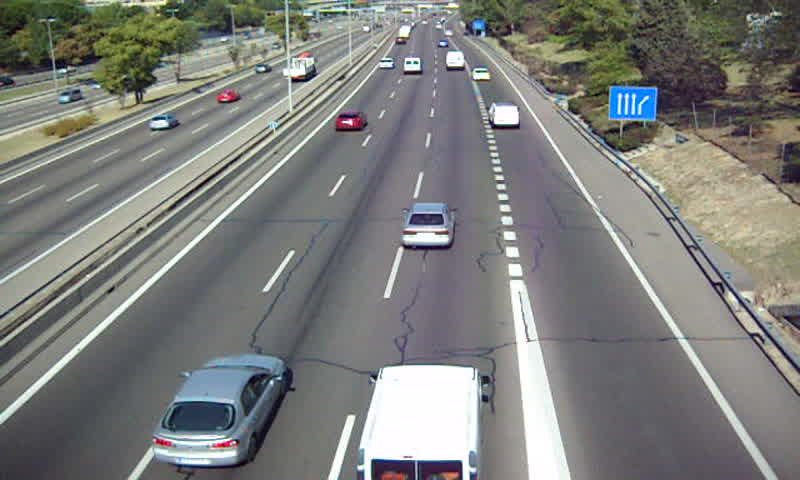car: (152, 354, 287, 467), (403, 201, 455, 249), (334, 112, 367, 131), (472, 66, 492, 81), (376, 57, 394, 69)
van: (361, 365, 483, 480), (488, 102, 520, 128), (402, 55, 422, 74), (445, 51, 465, 70)
